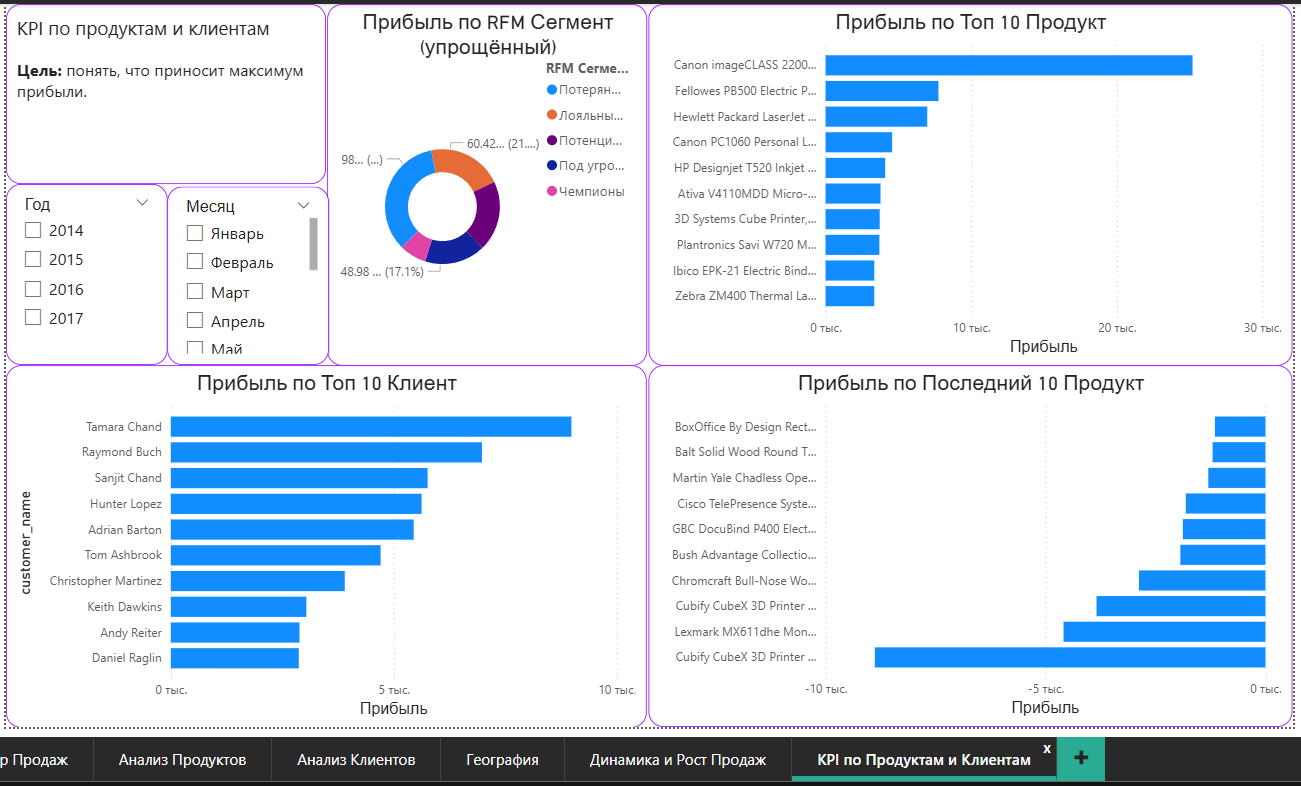

This screenshot's page, from the dashboard's own definition file:
{"tool":"powerbi","page":{"name":"KPI по Продуктам и Клиентам","canvas":[1280,720],"ordinal":5},"visuals":[{"type":"barChart","title":"Прибыль по Топ 10 Продукт","fields":{"Y":["Meas.Прибыль"],"Category":["Ready - Superstore.product_name"]},"box":[639.5,0,640.8,360],"z":0},{"type":"barChart","title":"Прибыль по Последний 10 Продукт","fields":{"Y":["Meas.Прибыль"],"Category":["Ready - Superstore.product_name"]},"box":[639.5,360,640.8,360],"z":1000},{"type":"barChart","title":"Прибыль по Топ 10 Клиент","fields":{"Category":["Ready - Superstore.customer_name"],"Y":["Meas.Прибыль"]},"box":[0,359.2,637.7,360.9],"z":2000},{"type":"donutChart","fields":{"Y":["Meas.Прибыль"],"Category":["RFM Table.RFM Сегмент (упрощённый)"]},"box":[320.1,0,318.8,359.8],"z":3000},{"type":"slicer","fields":{"Values":["Ready - Superstore.order_date.Изменение.Иерархия дат.Год"]},"box":[0,179.1,160.5,180.4],"z":4000},{"type":"slicer","fields":{"Values":["Ready - Superstore.order_date.Изменение.Иерархия дат.Месяц"]},"box":[160.5,181.6,160.5,177.9],"z":5000},{"type":"textbox","box":[0,0,318.5,179.1],"z":6000}]}

Visuals, with their boxes on the page's 1280x720 design canvas (x1, y1, x2, y2). These are canvas units, not pixel positions in the 1301x786 screenshot, which may show the page scaled, cropped or inside an application window:
"Прибыль по Топ 10 Продукт" barChart: [x1=640, y1=0, x2=1280, y2=360]
"Прибыль по Последний 10 Продукт" barChart: [x1=640, y1=360, x2=1280, y2=720]
"Прибыль по Топ 10 Клиент" barChart: [x1=0, y1=359, x2=638, y2=720]
donutChart - Meas.Прибыль x RFM Table.RFM Сегмент (упрощённый): [x1=320, y1=0, x2=639, y2=360]
slicer - Ready - Superstore.order_date.Изменение.Иерархия дат.Год: [x1=0, y1=179, x2=160, y2=360]
slicer - Ready - Superstore.order_date.Изменение.Иерархия дат.Месяц: [x1=160, y1=182, x2=321, y2=360]
textbox: [x1=0, y1=0, x2=318, y2=179]
